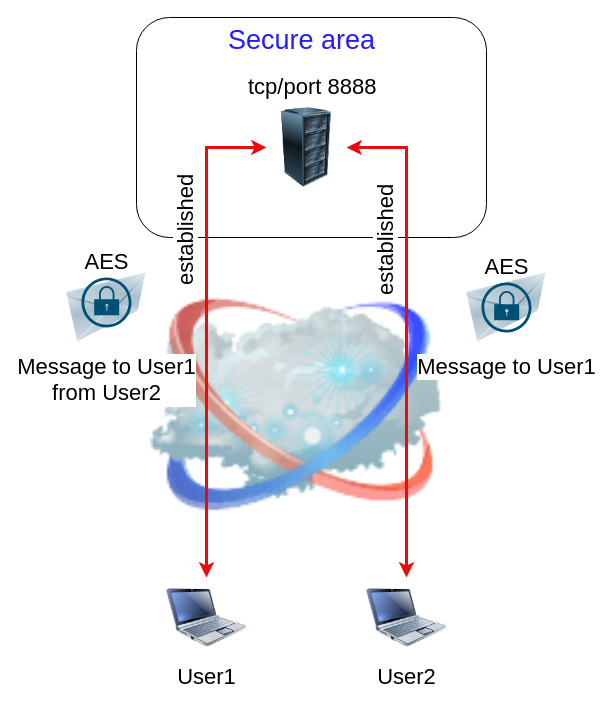
This 613x708 diagram has some shape labels left out. Here are the shapes that lost their labels. From the top down, the box of each, then its label:
(266, 107, 346, 187): Server
(136, 297, 456, 512): Internet
